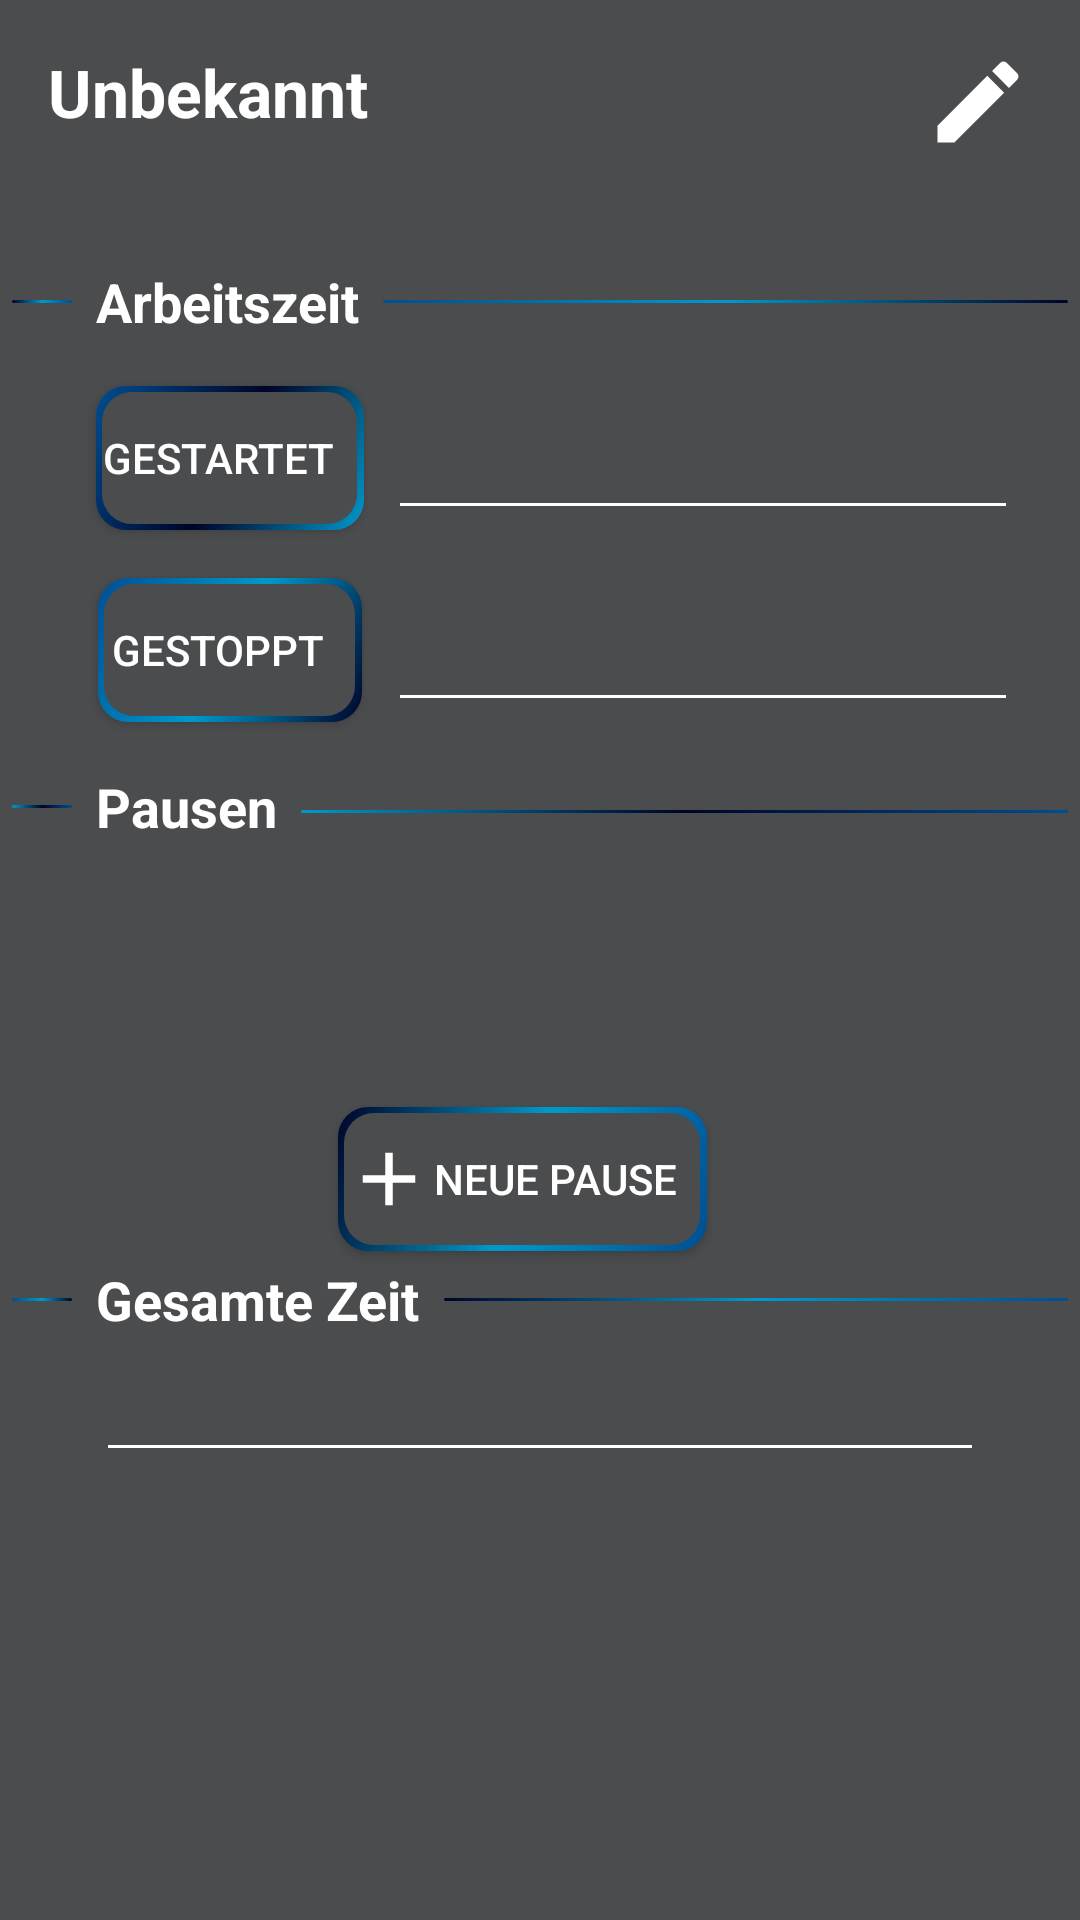

Named icons in this screenshot (1080px x 1920px) and their centers, (x=x, y=y):
edit: (x=978, y=102)
